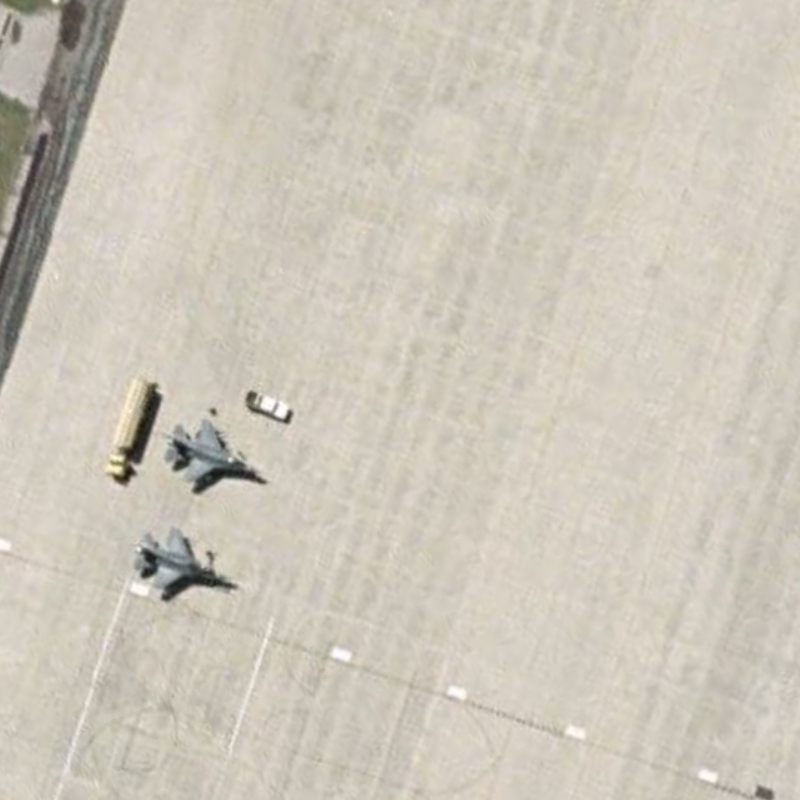A5: (128, 518, 248, 619), (158, 408, 275, 503)
